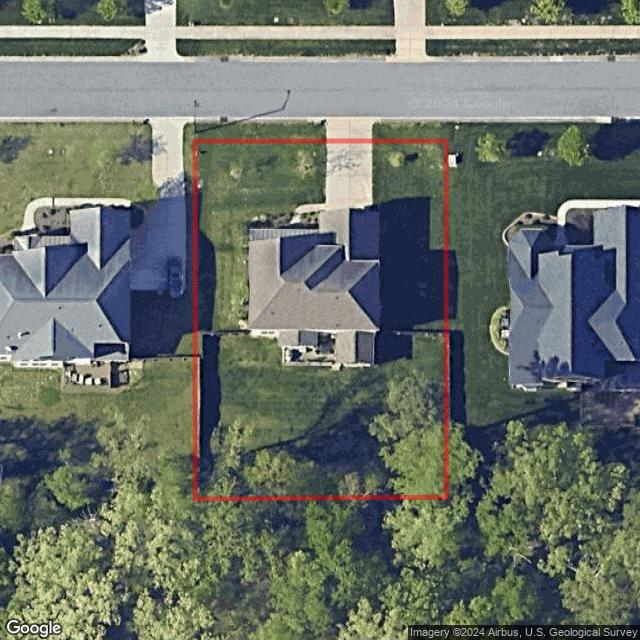Driveway: (325, 140, 375, 210)
Extra-Driveway: (326, 116, 373, 141)
Extra-Lawn: (194, 122, 326, 142), (372, 121, 447, 140)
House: (249, 208, 382, 368)
Lawn: (195, 140, 446, 499)
Other: (248, 212, 292, 229), (301, 210, 319, 229)
Sidewalk: (291, 203, 327, 230)
